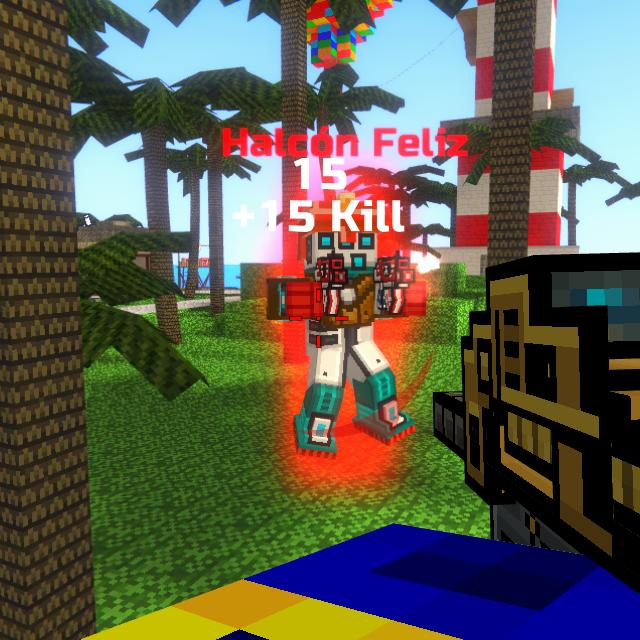Enemy: (262, 201, 415, 462)
